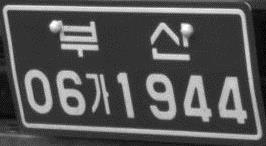0: (23, 65, 53, 116)
1: (114, 69, 138, 121)
4: (216, 73, 248, 127), (181, 72, 213, 125)
6: (52, 67, 88, 117)
9: (142, 70, 178, 123)
가: (82, 72, 112, 116)
부산_D: (55, 16, 193, 64)
